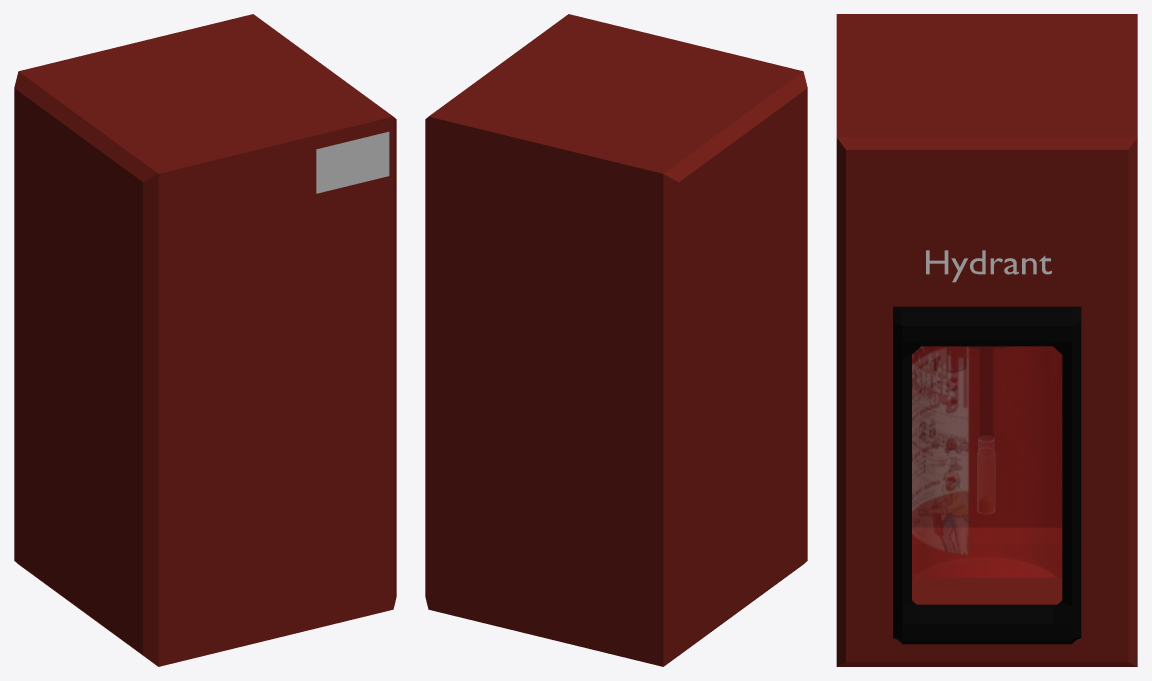
The model's file is redbox.glb.
3 views of the same model, side by side, from view 1: azimuth 30°, elevation 25°; view 2: azimuth 150°, elevation 25°; view 3: azimuth 270°, elevation 25° (orthographic). The views are drawn at different scales.
Parts seen in each view (by area): view 1: Cube, Cube.003; view 2: Cube; view 3: Cube, 10285_Fire Extinguisher_v3_iterations-2, Cube.001, Text.
Part boxes in pixels (x1,y1,x2,y2): Cube: [14, 14, 396, 666]; Cube.003: [316, 131, 389, 193]; Cube: [425, 14, 807, 666]; Cube: [836, 14, 1137, 666]; 10285_Fire Extinguisher_v3_iterations-2: [912, 346, 1061, 577]; Cube.001: [893, 306, 1081, 644]; Text: [926, 250, 1051, 282].
Bounding box in the file's own units: 2.24 × 3.88 × 2.
Materials: 4 (1 with a texture image).
